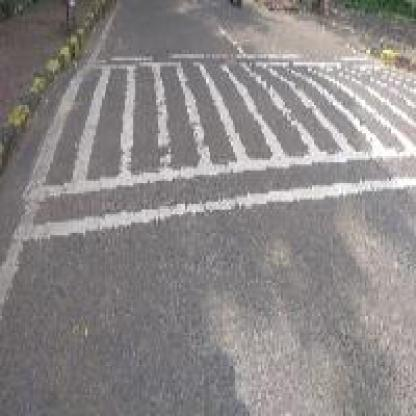Speed Bump: (10, 48, 414, 250)
